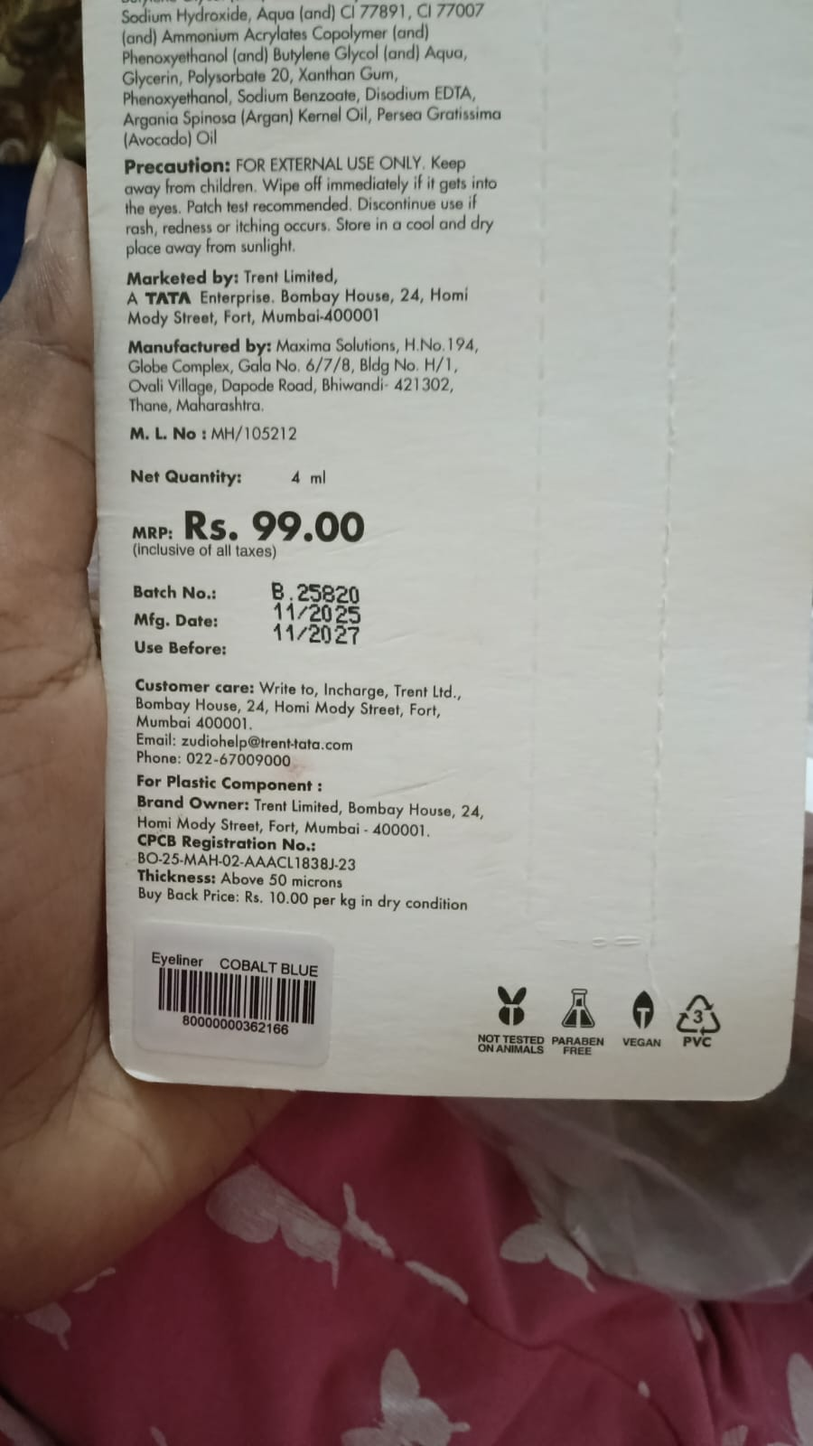consumer_care: (126, 672, 474, 772)
manufacturer: (125, 330, 530, 414)
mfg_date: (125, 604, 380, 627)
mrp: (121, 498, 424, 567)
net_qty: (118, 453, 359, 488)
